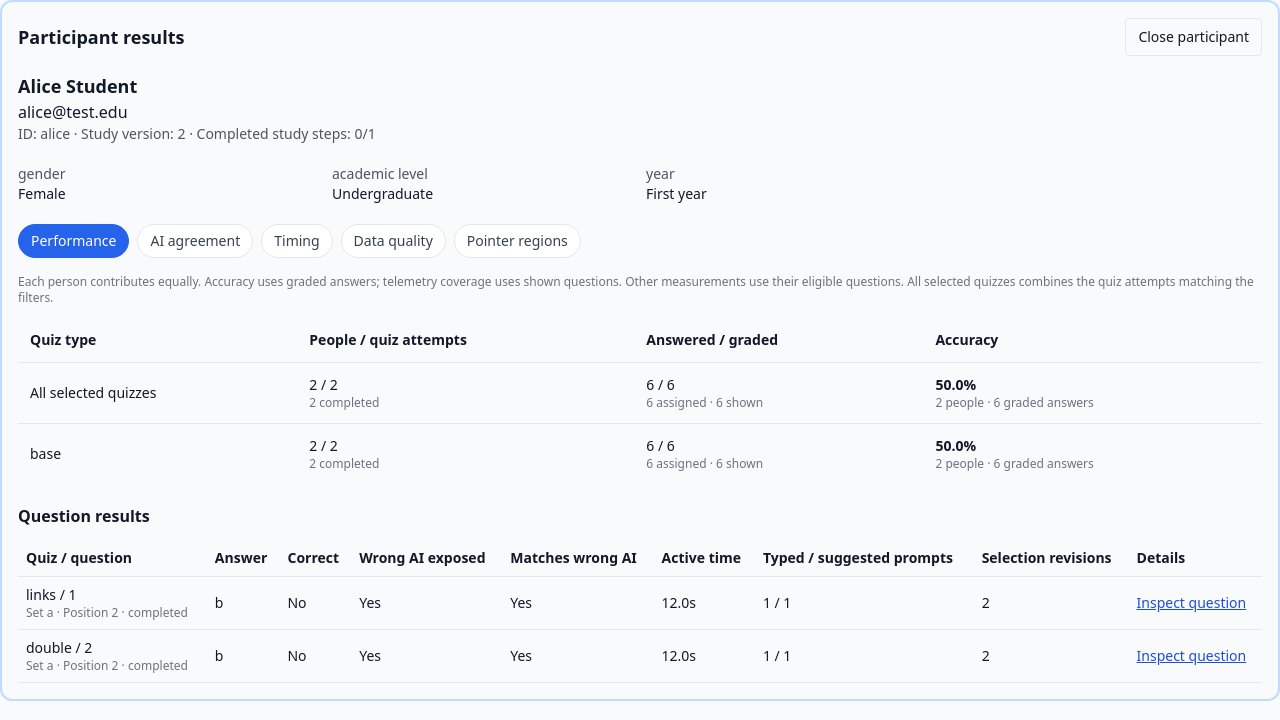
Scenario: opening another question loads the correct attempt and question
What coordinates should you click on to do the following:
click the button with aria-label "Inspect links question 1"
I would click on:
 (1191, 603)
Its box is [1136,593,1246,613].
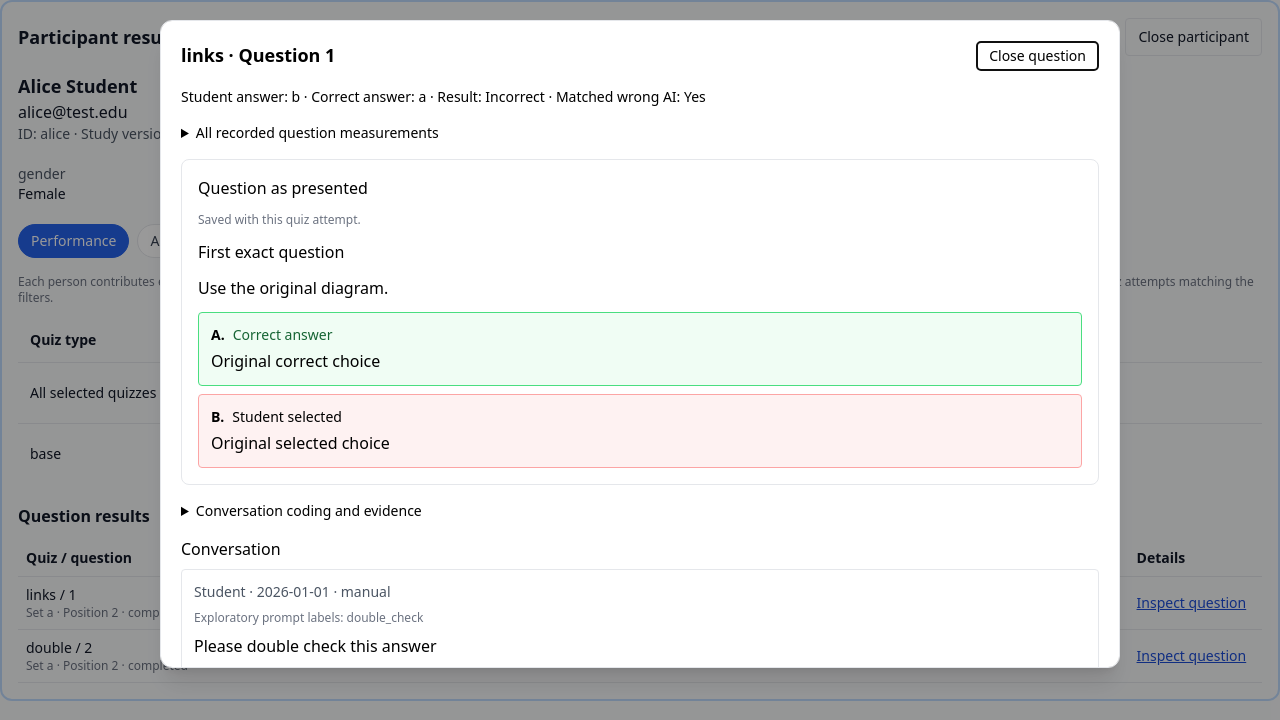
Expected: the text "First exact question" is shown, [198,241,344,263]
What coordinates should you click on to do the following:
click the button "Close question"
I would click on:
 (1038, 56)
Its box is [976,41,1099,71].
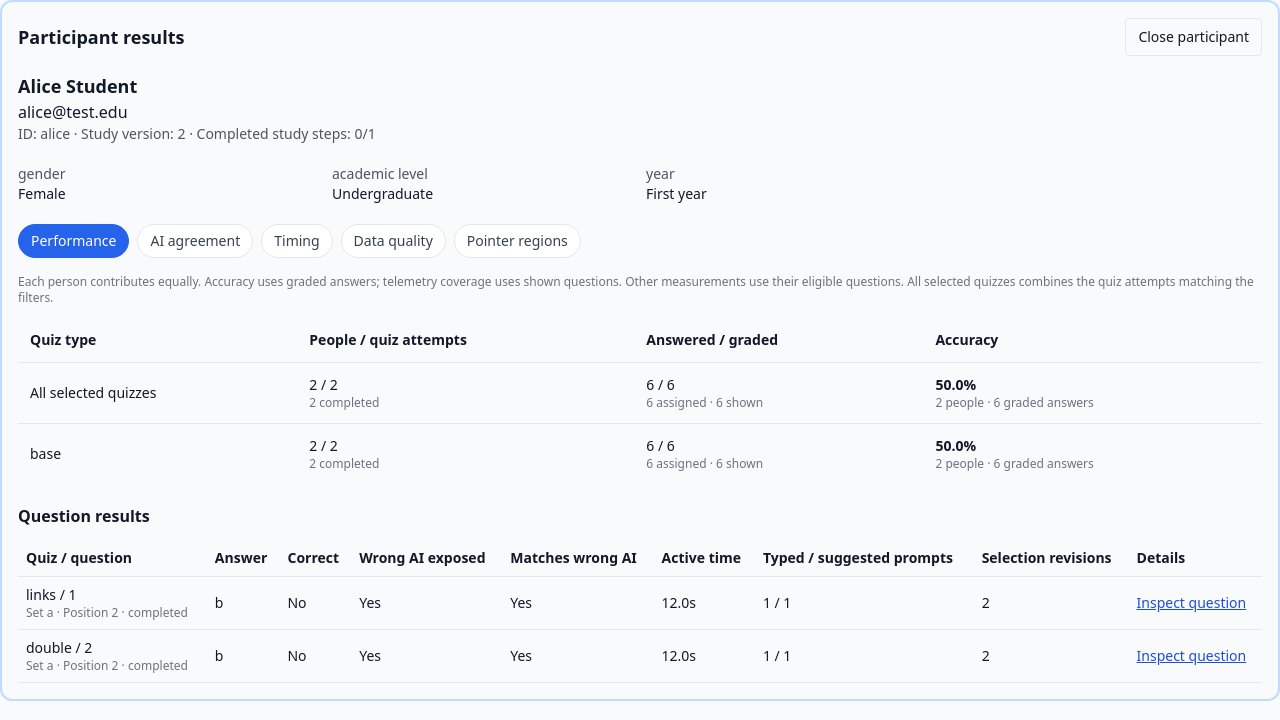
What coordinates should you click on to do the following:
click the button with aria-label "Inspect double question 2"
I would click on:
 (1191, 656)
Its box is [1136,646,1246,666].
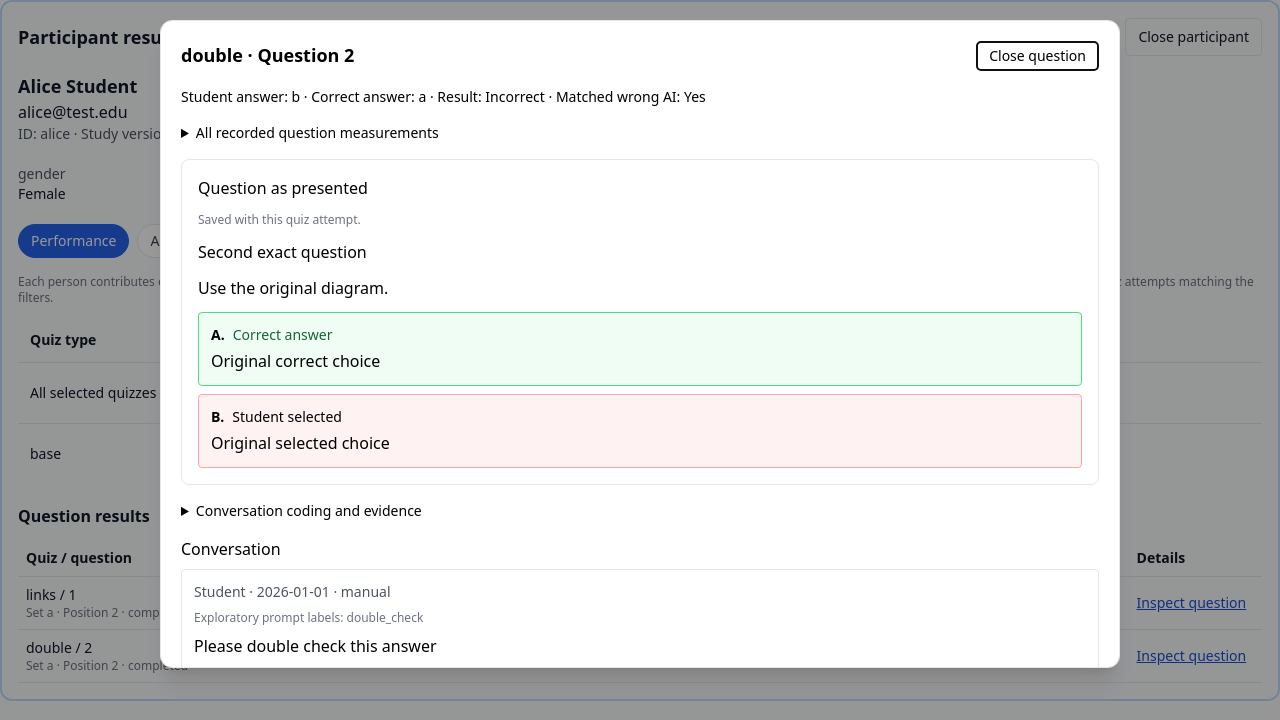
Expected: the text "First exact question" is not shown
Expected: the text "Second exact question" is shown, [198,241,367,263]
